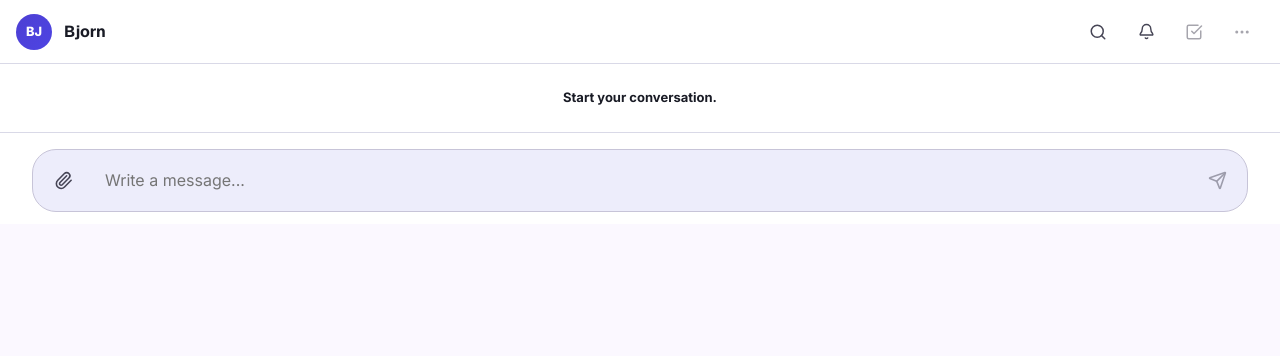
Test: ConversationPage optimistic send › shows an optimistic message, confirms it, and never duplicates
Expected: the text "Start your conversation." is shown, 563,88 -> 717,108
Type "Hello there" into the text box labelled "message" at (640, 180), box 93,158 -> 1187,202
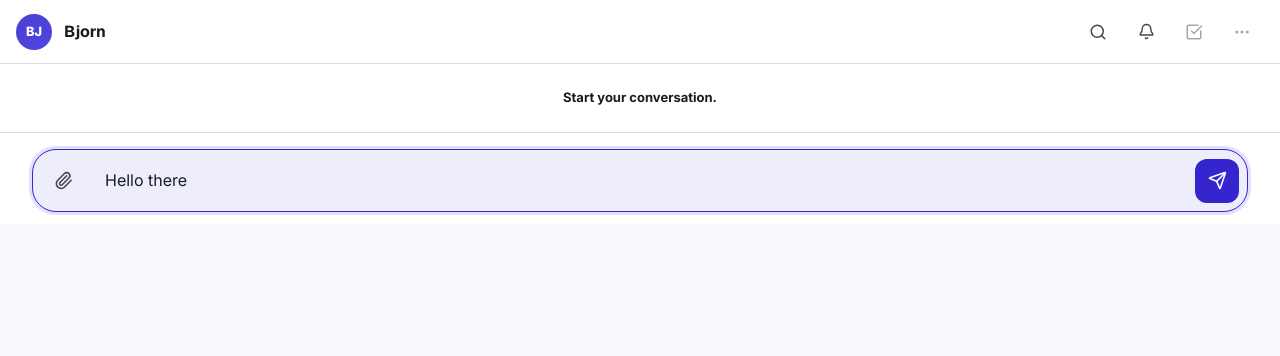
Press Enter
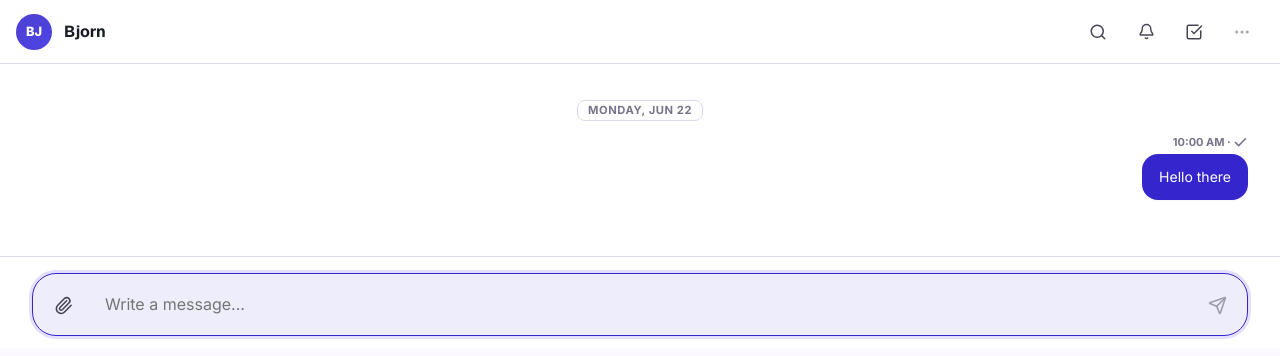
Expected: the text "Hello there" is shown once, 1159,168 -> 1231,185
